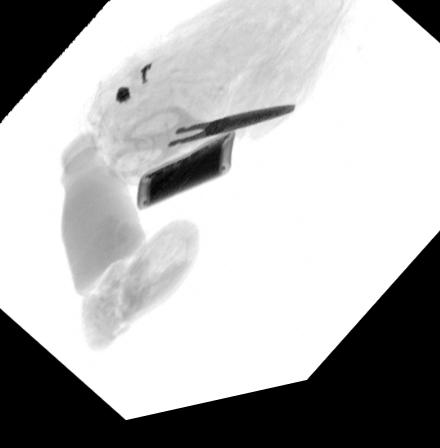Powerbank: (133, 139, 235, 218)
Scissors: (103, 113, 299, 187)
